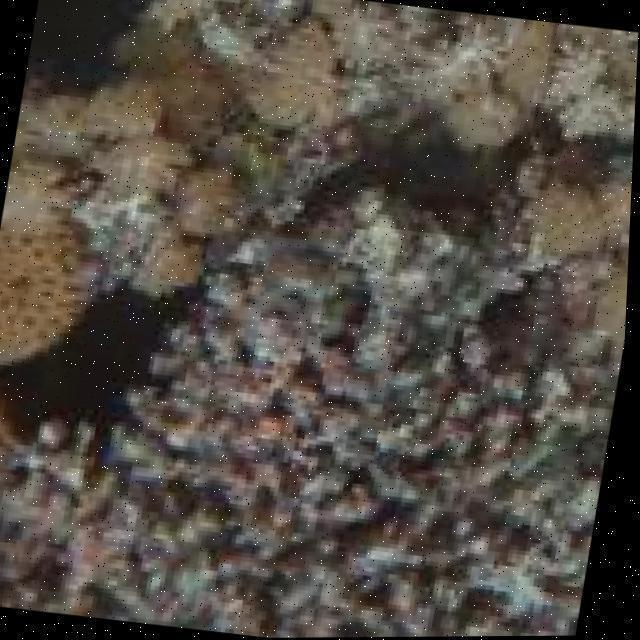Healthy Coral: (0, 74, 117, 381)
